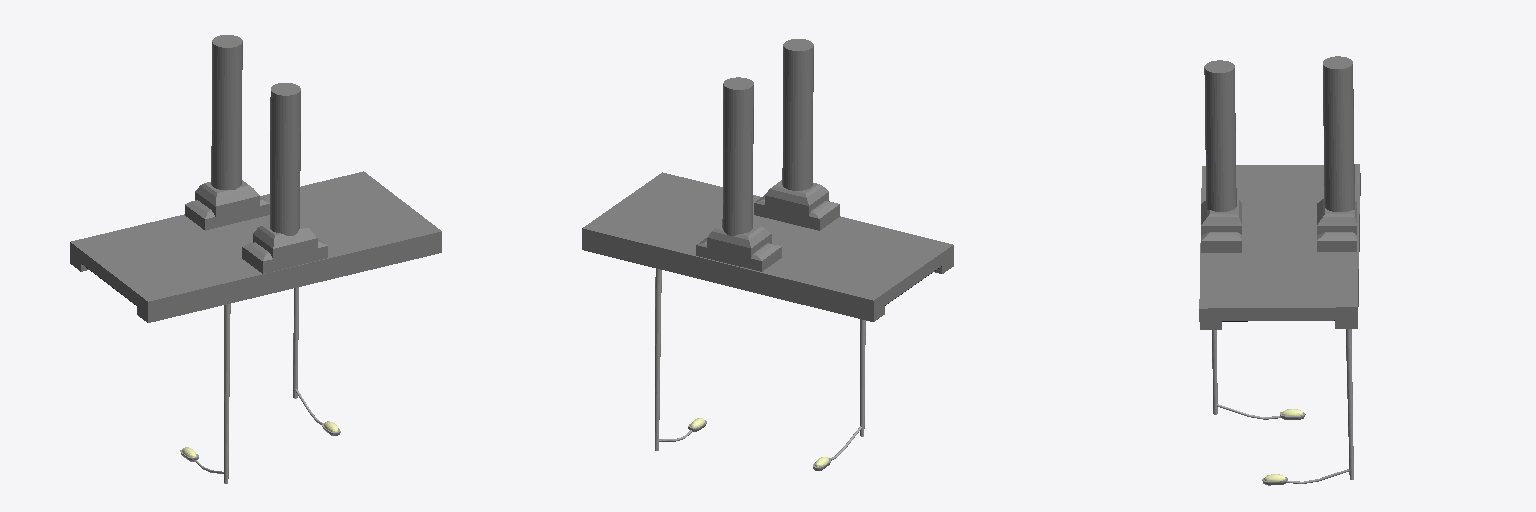
The model's file is reta.obj.
3 views of the same model, side by side, from view 1: azimuth 30°, elevation 25°; view 2: azimuth 150°, elevation 25°; view 3: azimuth 270°, elevation 25° (orthographic).
Parts seen in each view (by area): view 1: Cube.2; view 2: Cube.2; view 3: Cube.2.
Part boxes in pixels (x1,y1,x2,y2): Cube.2: (70, 35, 441, 483); Cube.2: (582, 39, 953, 470); Cube.2: (1199, 56, 1360, 485).
Bounding box in the file's own units: 216 × 273 × 103.